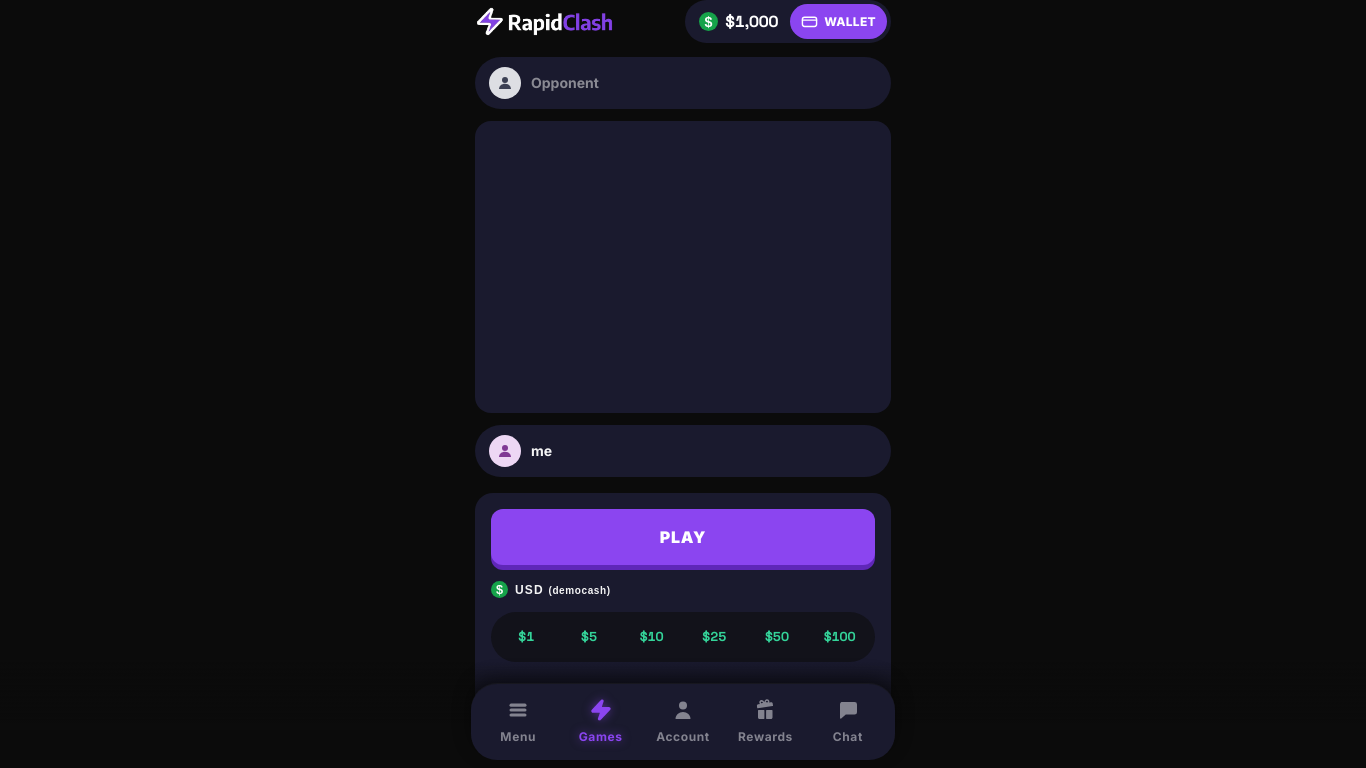
it: CoinflipHubScreen (Part 2 — live state machine) › #381: tap-again on the 1¢ preset arms the reserved stake 2 › a second consecutive tap arms 2 (button now shows 2, highlighted)
Click the button with test id "hub-bet-1" at (526, 637), box x1=496 y1=617 x2=557 y2=656
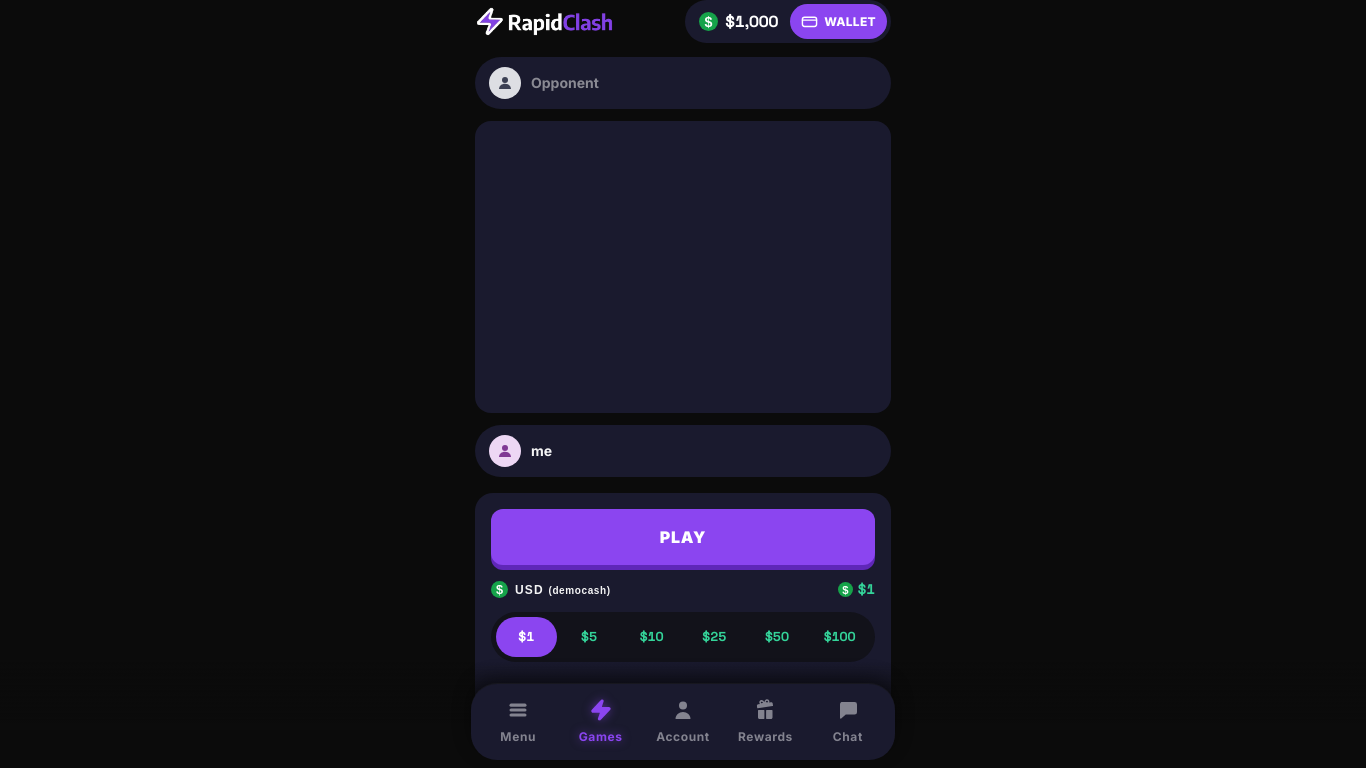
Click the button with test id "hub-bet-1" at (526, 637), box x1=496 y1=617 x2=557 y2=656
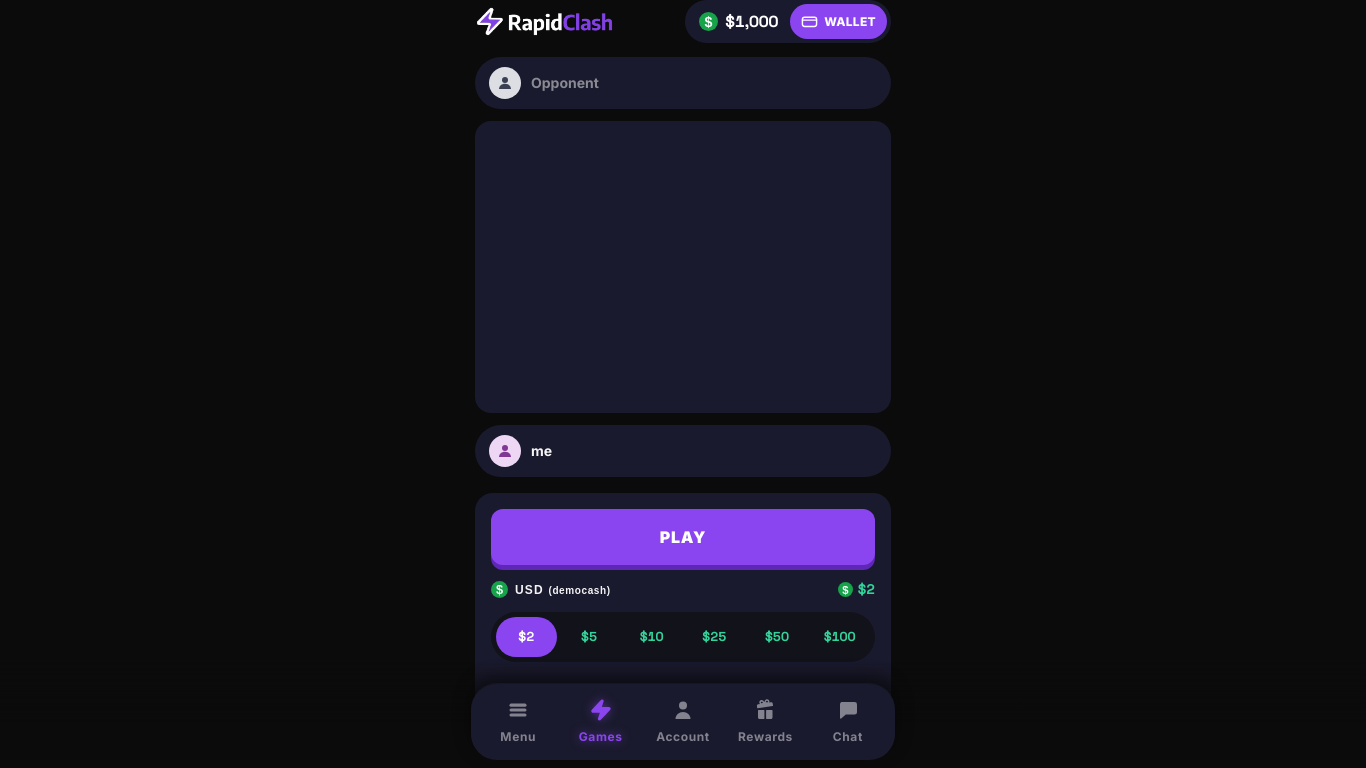
Check: the button with test id "hub-bet-1" reads "$2", box x1=496 y1=617 x2=557 y2=656
